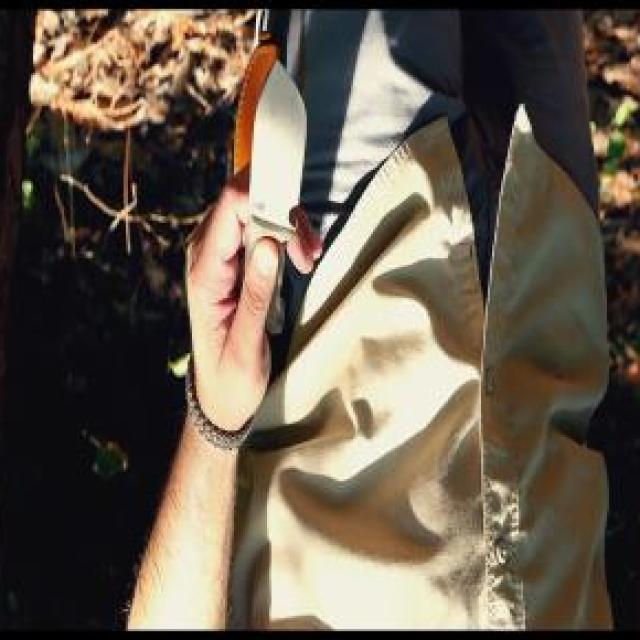knife: (188, 46, 326, 349)
